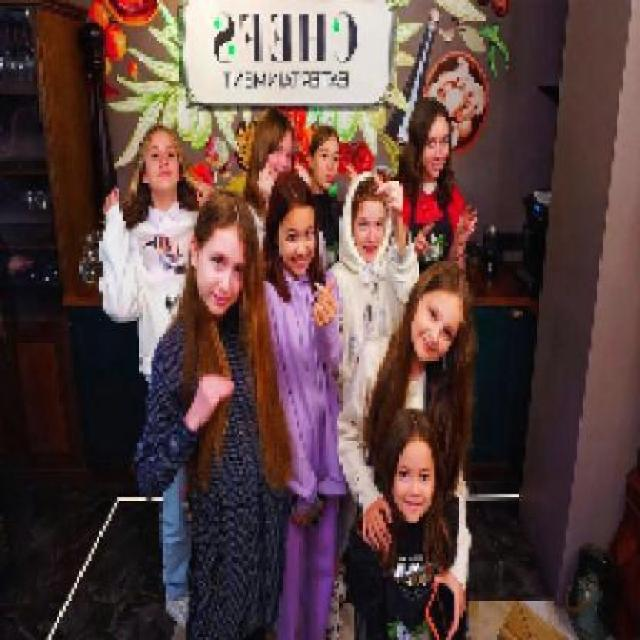child: (341, 405, 468, 638)
